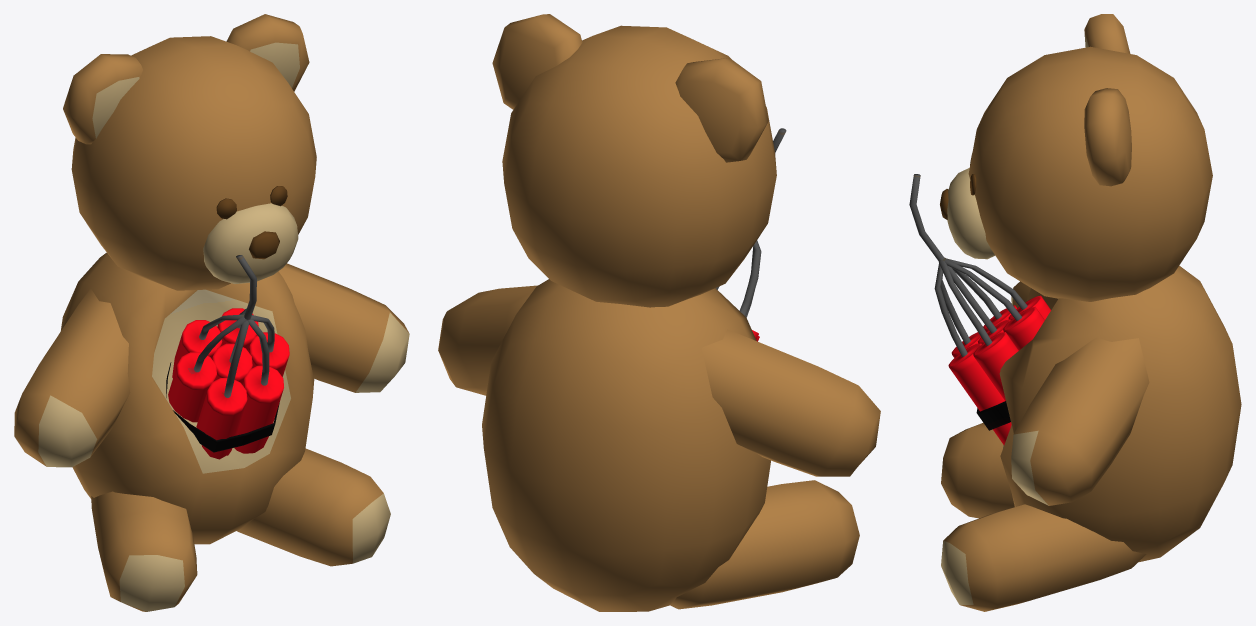
File: TeddyBomb.fbx
The picture shows the model from 3 angles, left to right: view 1: azimuth 30°, elevation 25°; view 2: azimuth 150°, elevation 25°; view 3: azimuth 270°, elevation 25°; orthographic projection. The views are drawn at different scales.
Visible parts, largest first — view 1: TeddyBomb; view 2: TeddyBomb; view 3: TeddyBomb.
Boxes of the visible parts, bbox=[...] form: TeddyBomb: bbox=[14, 14, 409, 611]; TeddyBomb: bbox=[438, 14, 880, 611]; TeddyBomb: bbox=[909, 14, 1241, 611].
Size of the model in its own units: 57.3 by 71.83 by 42.63.
Materials: 1 (1 with a texture image).
